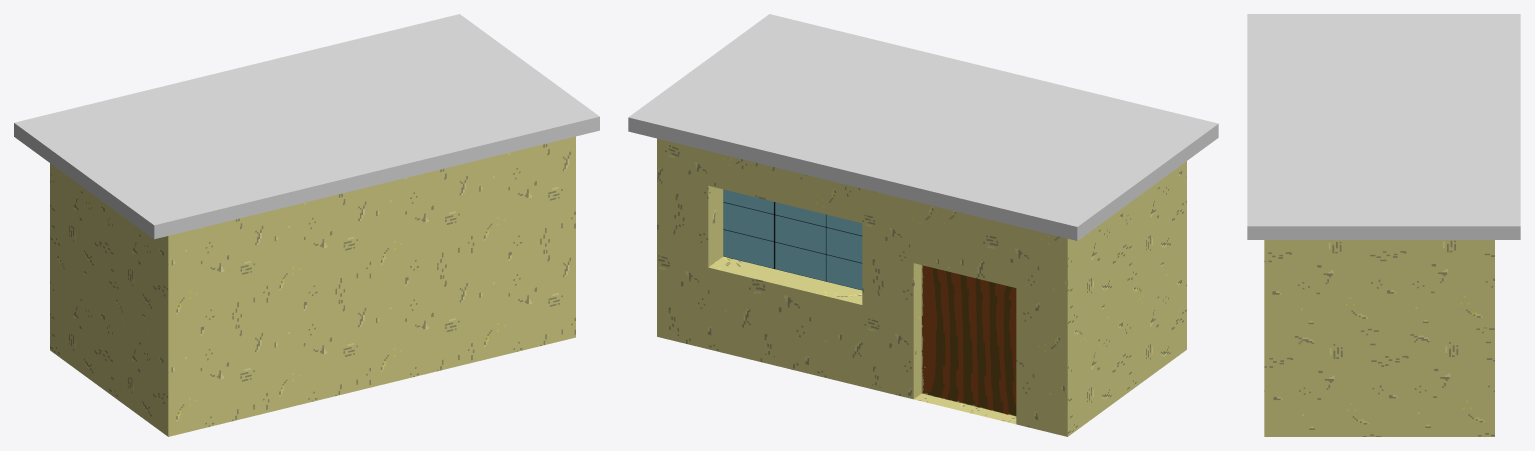
File: Shopping Building Asset Textured.fbx
The picture shows the model from 3 angles, left to right: view 1: azimuth 30°, elevation 25°; view 2: azimuth 150°, elevation 25°; view 3: azimuth 270°, elevation 25°; orthographic projection. The views are drawn at different scales.
Parts seen in each view (by area): view 1: Cube, Plane; view 2: Cube, Plane; view 3: Plane, Cube.
Boxes of the visible parts, <box> form: Cube: <box>50,136,575,436</box>; Plane: <box>14,14,599,239</box>; Cube: <box>657,138,1186,436</box>; Plane: <box>628,14,1218,240</box>; Plane: <box>1247,14,1520,239</box>; Cube: <box>1264,240,1494,436</box>.
Size of the model in its own units: 1984 by 951 by 1081.
